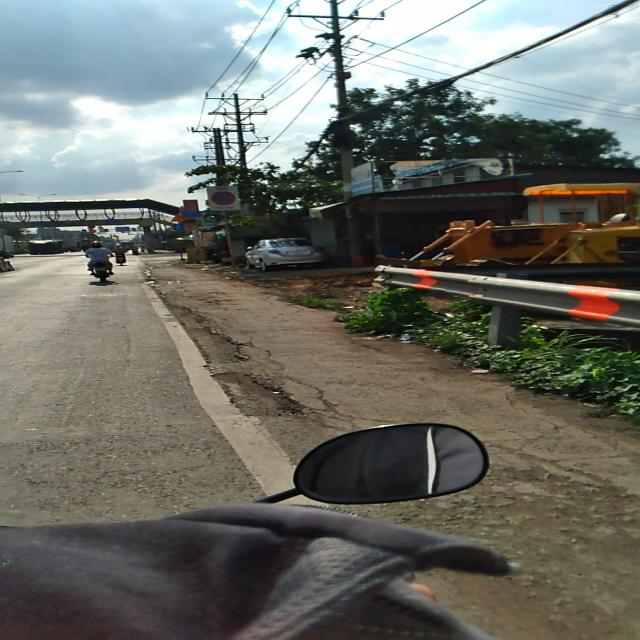Cam dung va do: (210, 191, 236, 205)
